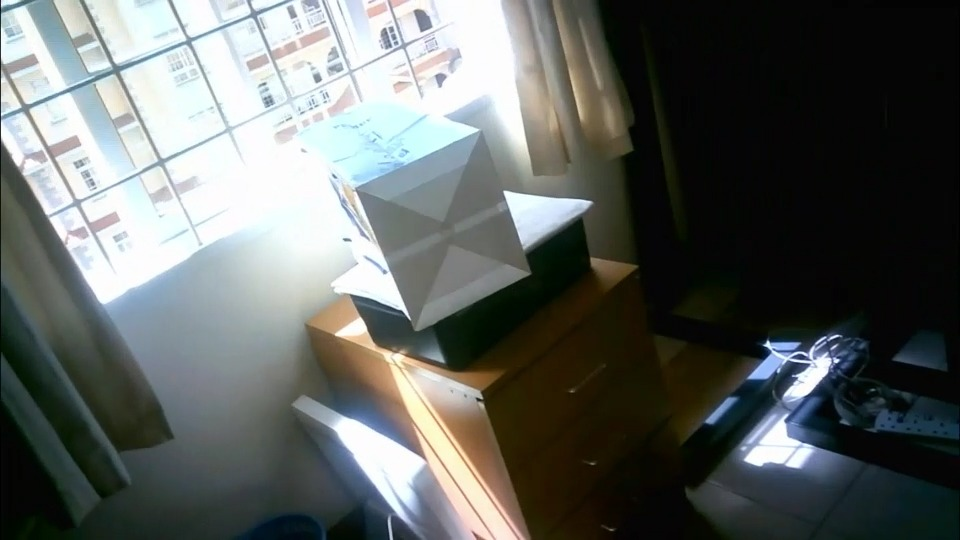wheat_flour_blue_label: (296, 97, 532, 327)
